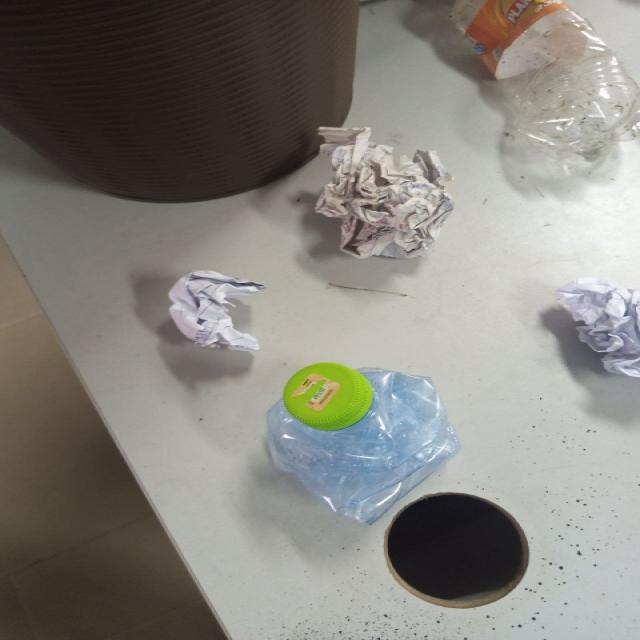Paper: (315, 127, 455, 261), (557, 278, 640, 381), (168, 270, 263, 355)
Plastic: (263, 362, 460, 527), (452, 0, 640, 161)
